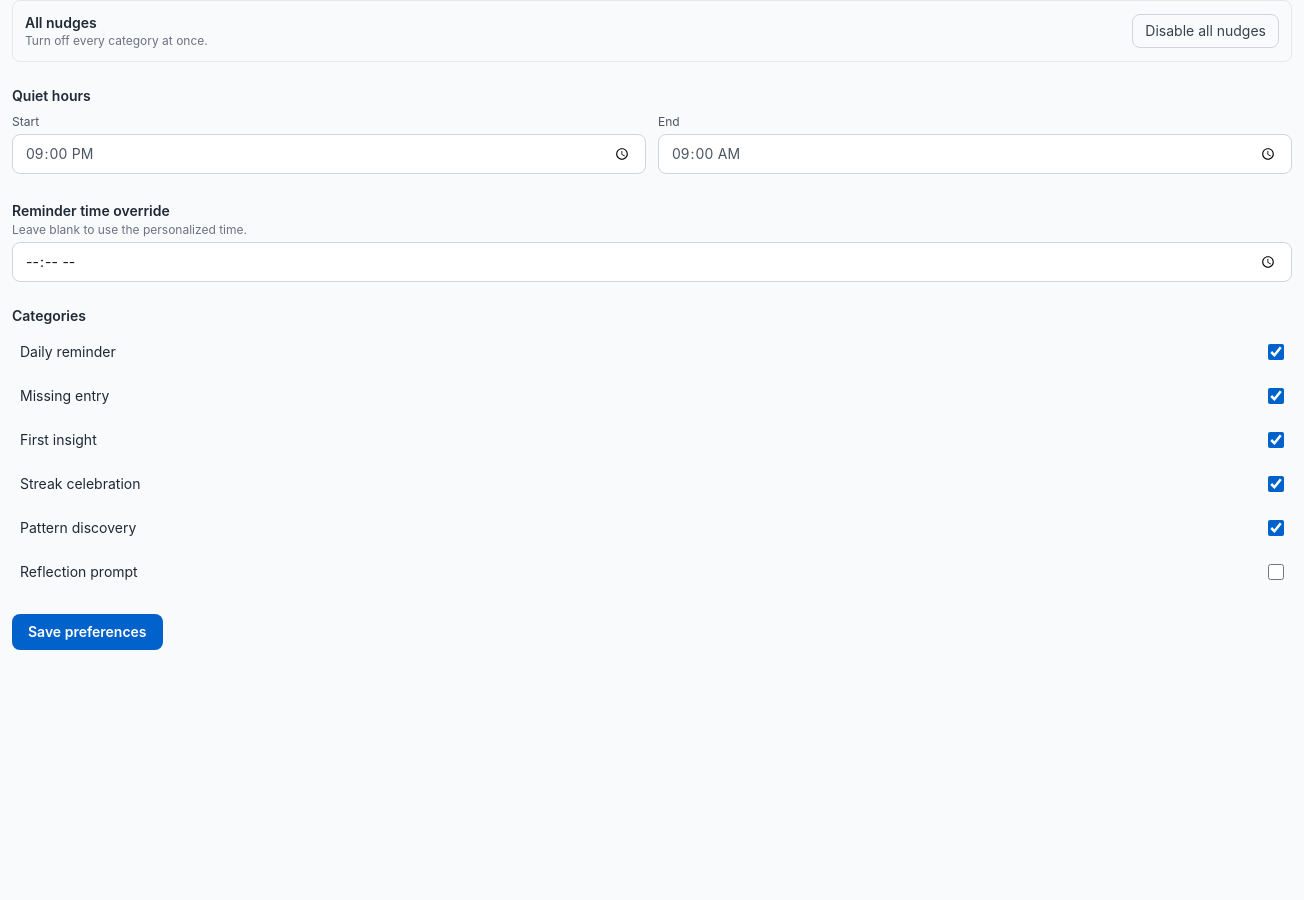
Test: PreferencesForm › disable-all turns every category off
Click the button "Disable all nudges" at (1206, 31), box [1132,14,1279,48]
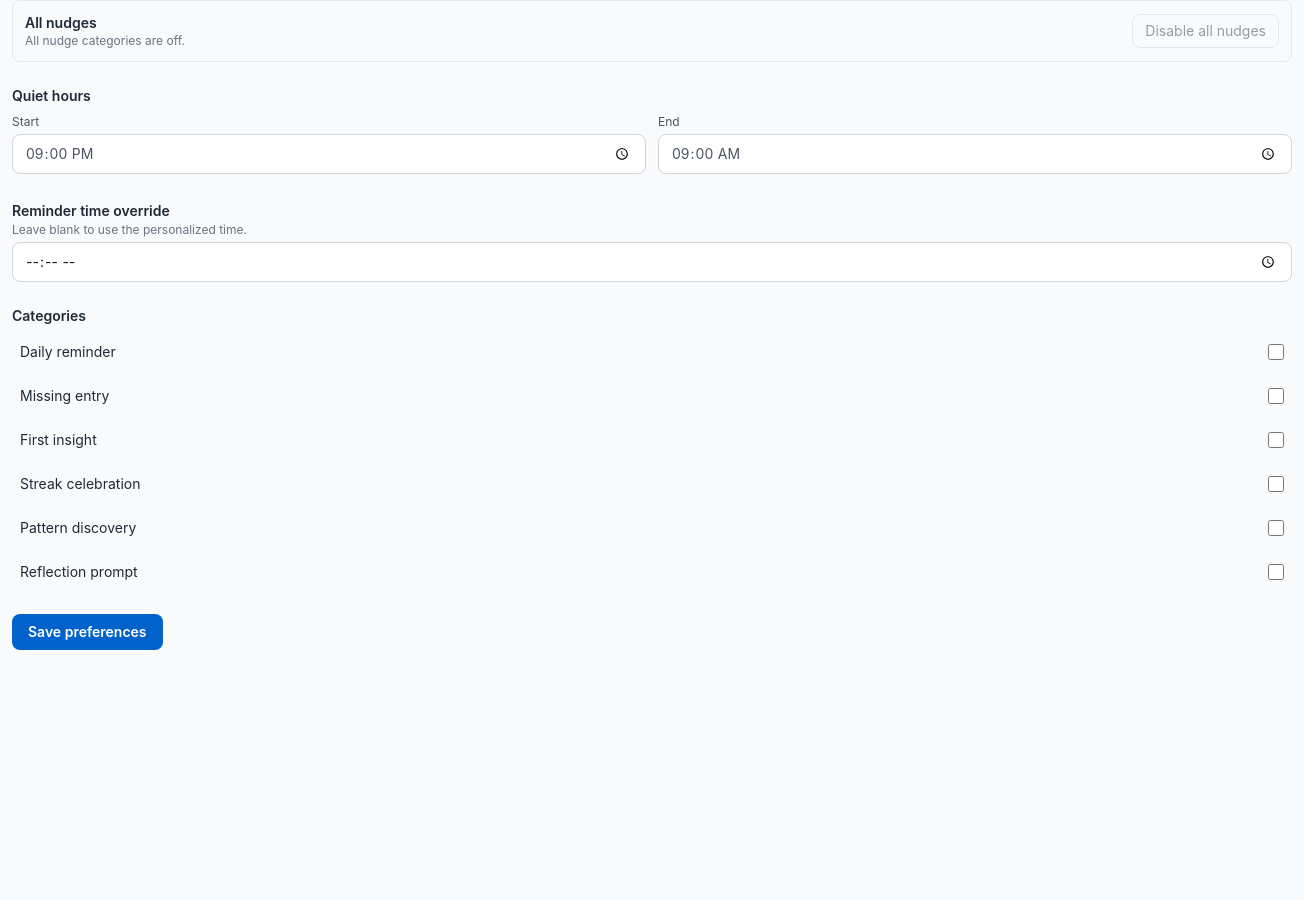
Check: the checkbox labelled "Daily reminder" is not checked, box [1268,344,1284,360]
Check: the checkbox labelled "Pattern discovery" is not checked, box [1268,520,1284,536]
